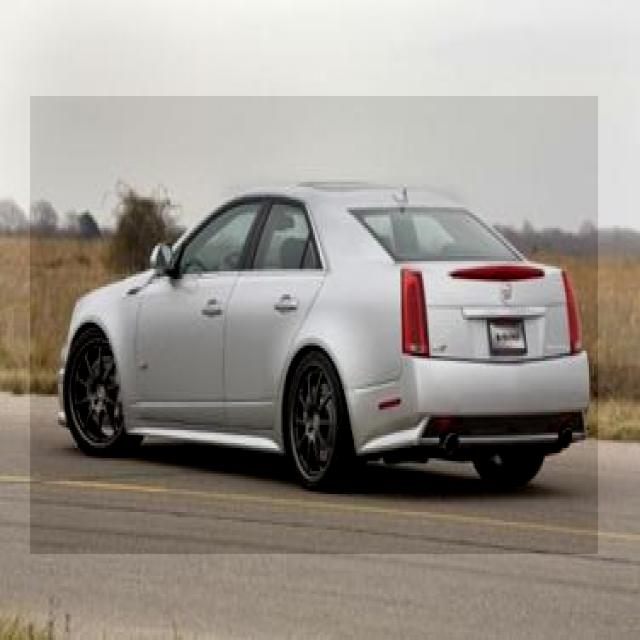Car: (30, 96, 598, 554)
